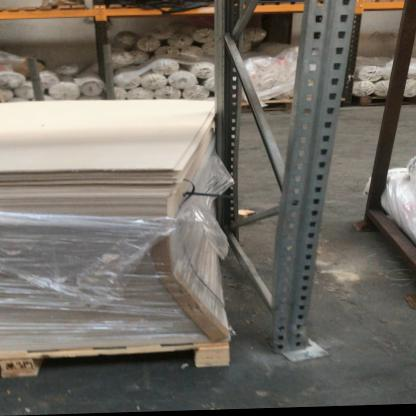vertical_damage: (271, 289, 336, 368)
